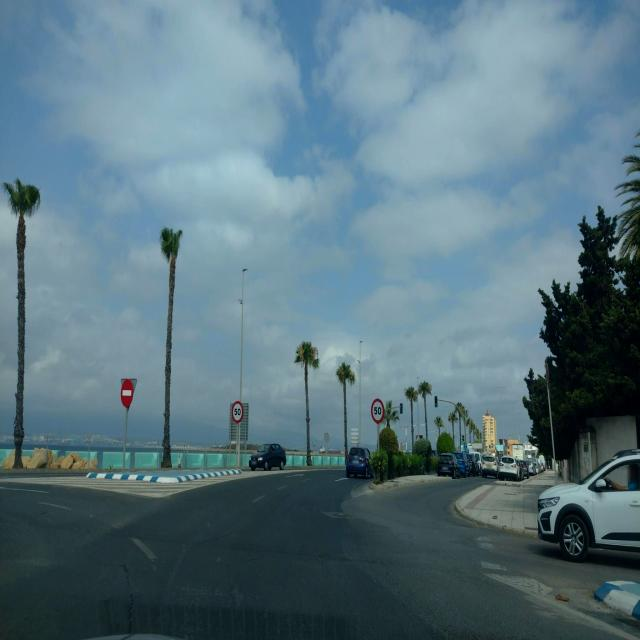car: (536, 447, 640, 569), (249, 442, 287, 472), (346, 445, 374, 479), (498, 454, 520, 482), (480, 452, 499, 479), (437, 452, 456, 476), (454, 452, 471, 478), (468, 451, 482, 476), (516, 459, 530, 479), (527, 458, 536, 476)
